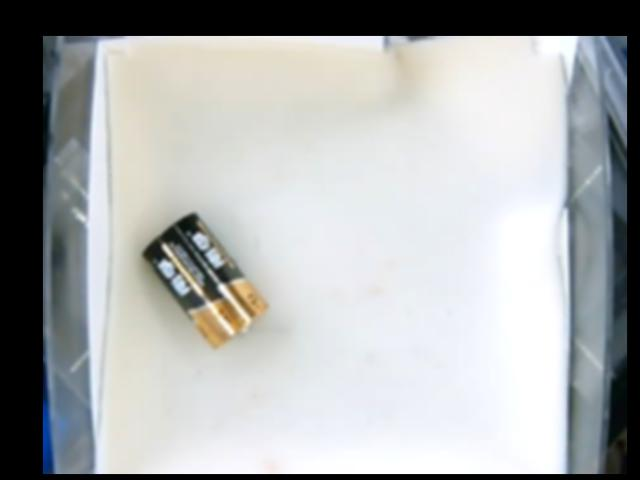Battery: (143, 211, 264, 353)
